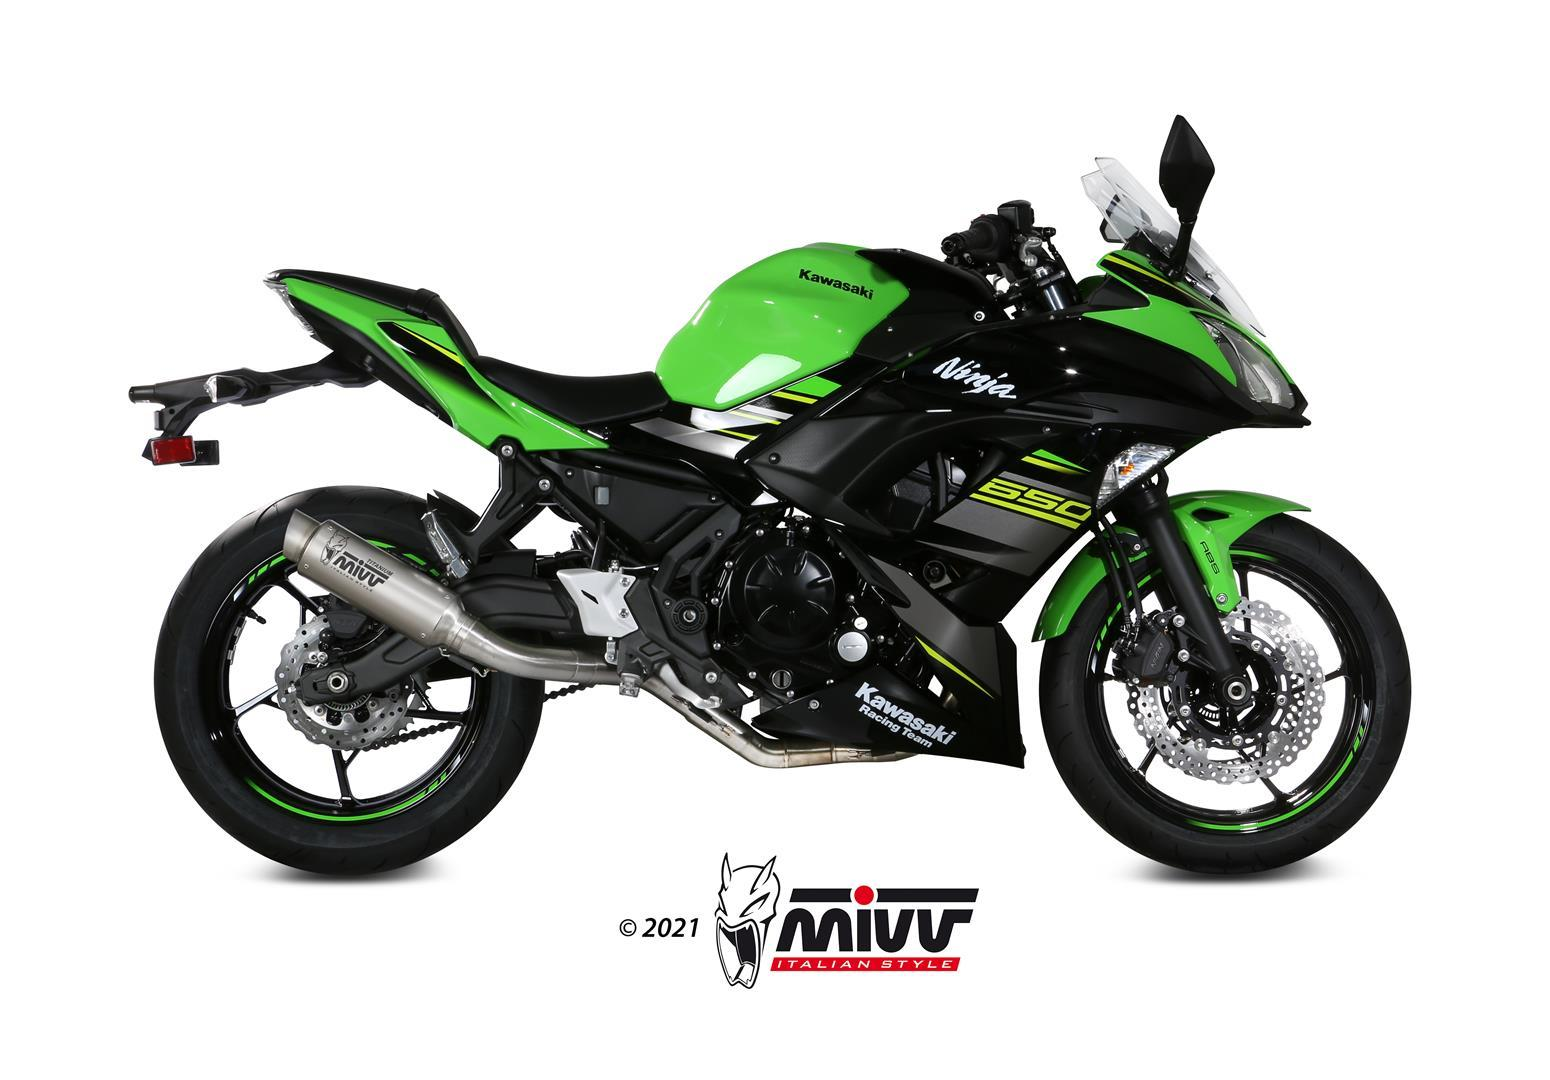engine-chasis: (556, 355, 1027, 769), (534, 525, 597, 578)
exhaust: (283, 508, 621, 685), (641, 676, 921, 769)
frontside: (735, 236, 1312, 714), (1080, 157, 1180, 259)
handlebar: (1121, 113, 1216, 281), (940, 199, 1077, 291), (1099, 218, 1124, 244)
motorbike: (130, 117, 1412, 874)
rearside: (128, 278, 727, 647), (296, 631, 441, 707)
seat: (264, 269, 670, 426)
tank: (655, 241, 1011, 412)
watermark: (615, 850, 991, 999)
wheel: (154, 484, 545, 876), (1038, 512, 1412, 876), (1100, 516, 1144, 642), (1089, 523, 1133, 637), (362, 721, 462, 753), (543, 683, 597, 703)
